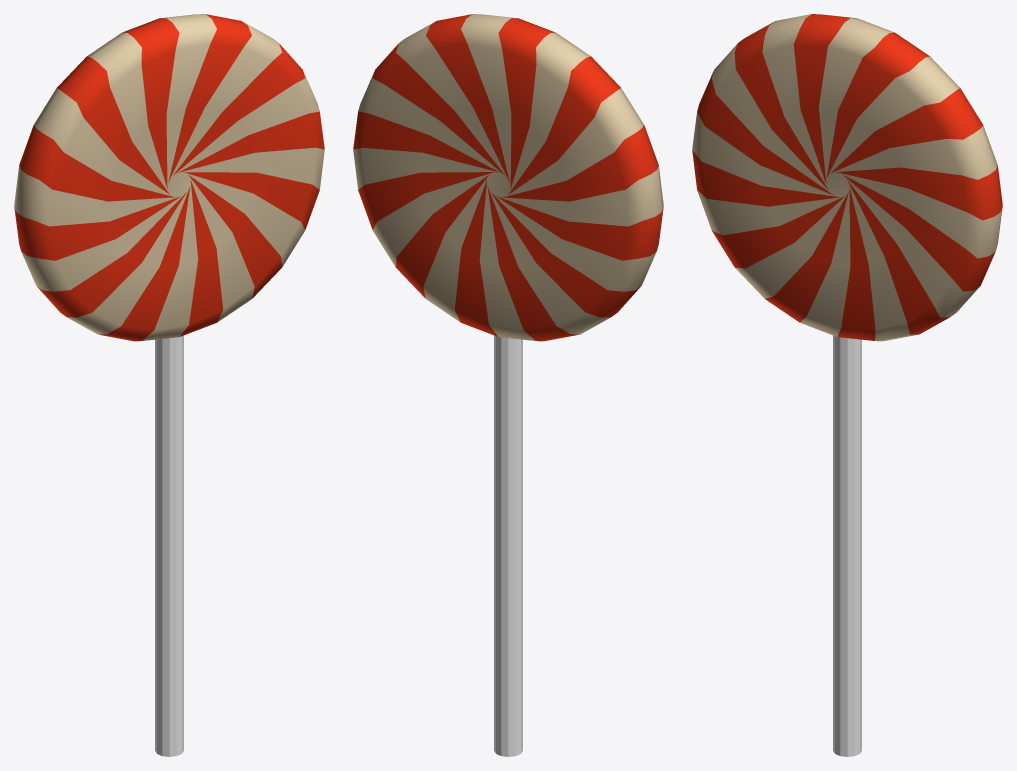
File: CandySwirl.fbx
3 views of the same model, side by side, from view 1: azimuth 30°, elevation 25°; view 2: azimuth 150°, elevation 25°; view 3: azimuth 330°, elevation 25° (orthographic).
Visible parts, largest first — view 1: CandySwirl; view 2: CandySwirl; view 3: CandySwirl.
Part boxes in pixels (left/top/right/bottom): CandySwirl: left=14, top=14, right=324, bottom=756; CandySwirl: left=353, top=14, right=663, bottom=756; CandySwirl: left=692, top=14, right=1002, bottom=756.
Size of the model in its own units: 0.202 by 0.4693 by 0.03.
